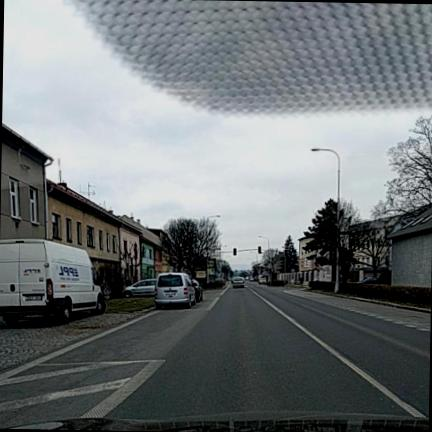Road: (0, 282, 430, 427)
